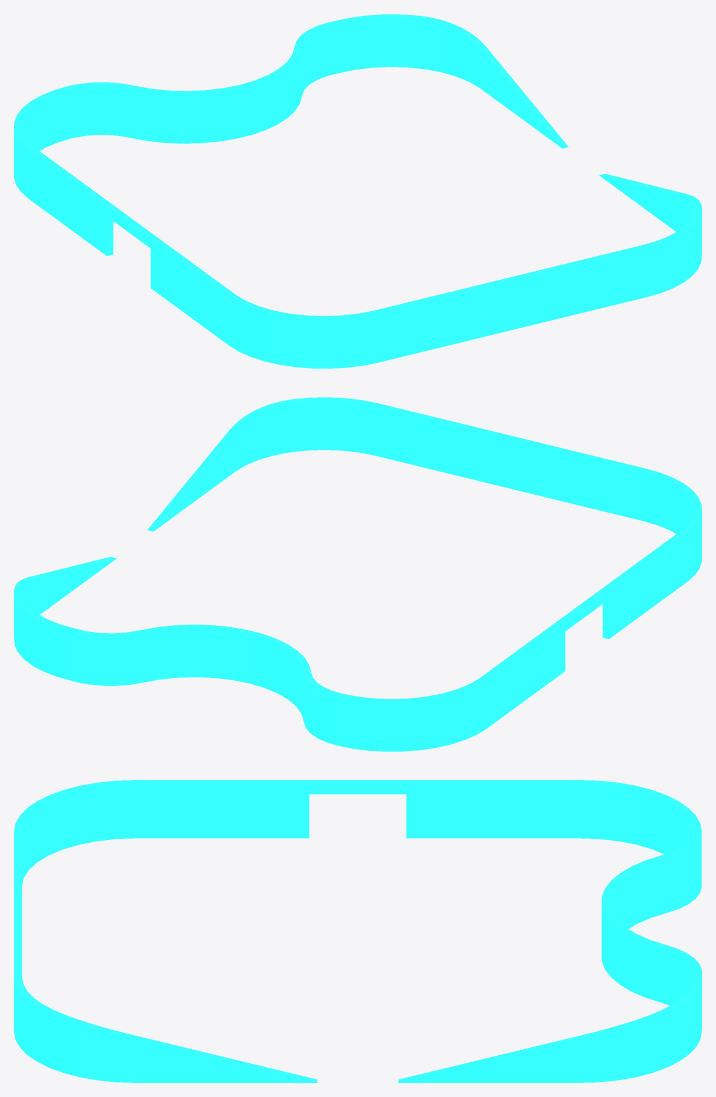
File: bridge_interior.dae
3 views of the same model, one above another, from view 1: azimuth 30°, elevation 25°; view 2: azimuth 150°, elevation 25°; view 3: azimuth 270°, elevation 25° (orthographic). The views are drawn at different scales.
Parts seen in each view (by area): view 1: CurbBridge; view 2: CurbBridge; view 3: CurbBridge.
Part boxes in pixels (x1=…): CurbBridge: x1=14, y1=14, x2=701, y2=368; CurbBridge: x1=14, y1=397, x2=701, y2=751; CurbBridge: x1=14, y1=780, x2=701, y2=1082.
Bounding box in the file's own units: 14.5 × 17 × 1.5.
